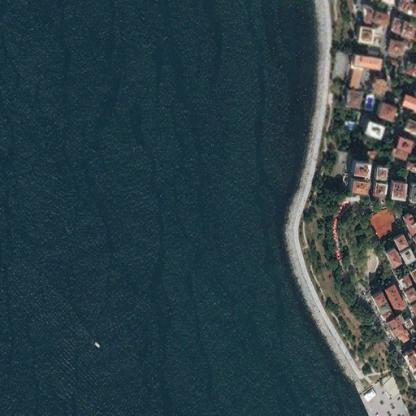ship: (94, 341, 99, 347)
